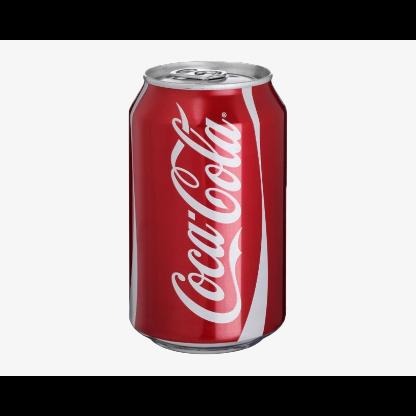Tin_Can: (122, 57, 292, 362)
